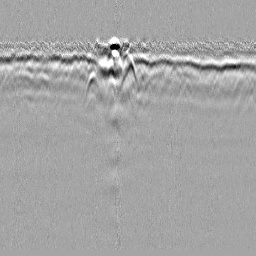cavity: (120, 54, 139, 91)
